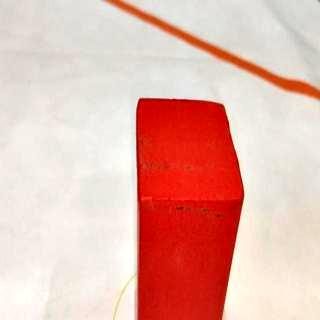redbox: (134, 97, 244, 320)
